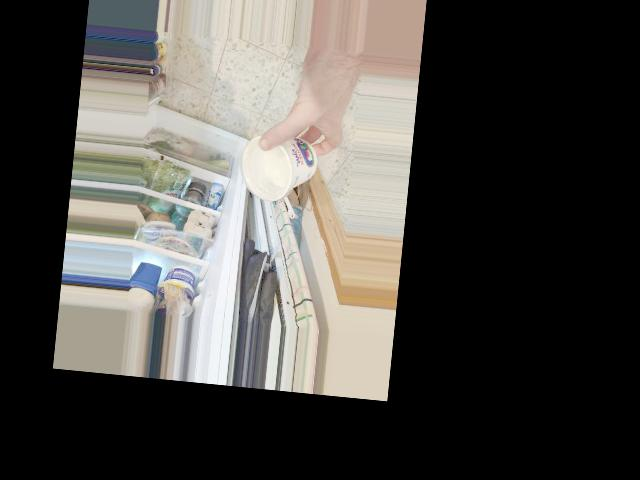cotage: (238, 122, 327, 208)
